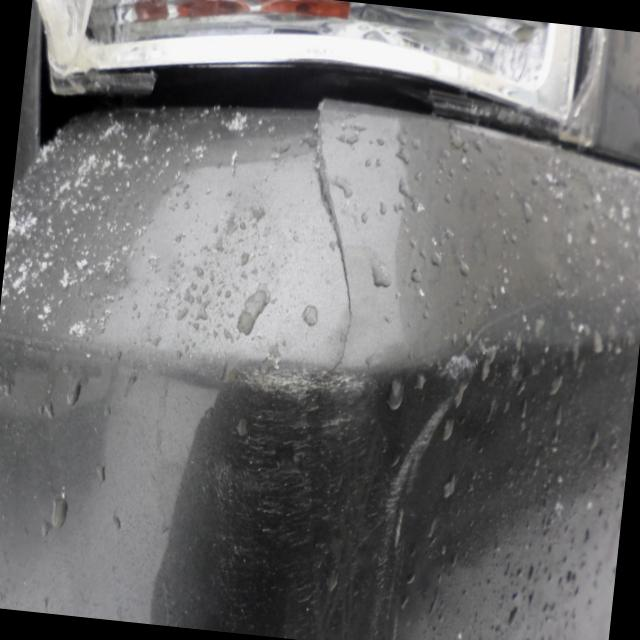Cabossage: (179, 364, 632, 640), (0, 327, 105, 612)
Dechirure: (278, 103, 380, 347)
Rayure: (211, 354, 466, 640), (463, 292, 559, 370)
